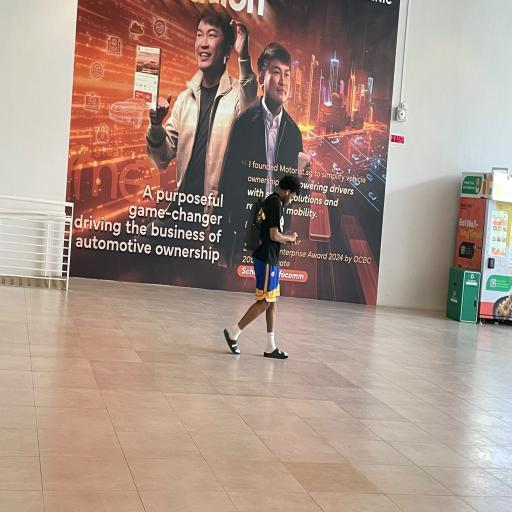person_right: (224, 175, 300, 359)
